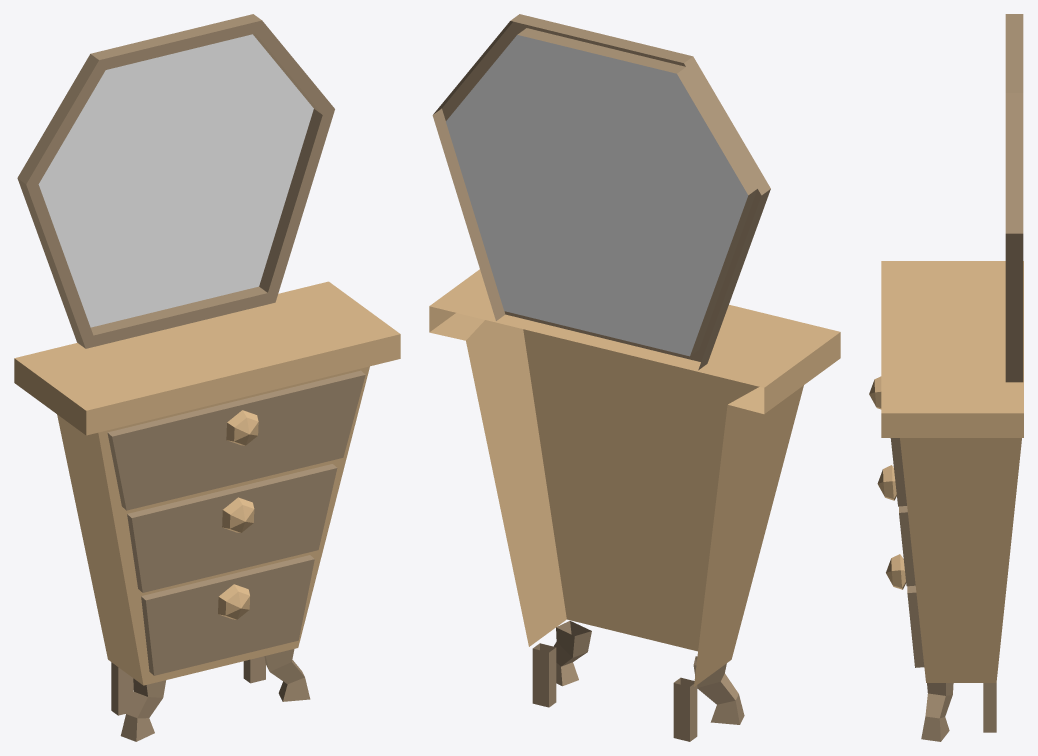
The model's file is Dresser.fbx.
3 renders of one model, left to right at view 1: azimuth 30°, elevation 25°; view 2: azimuth 150°, elevation 25°; view 3: azimuth 270°, elevation 25°, orthographic. The views are drawn at different scales.
Parts seen in each view (by area): view 1: DresserMesh; view 2: DresserMesh; view 3: DresserMesh.
Boxes of the visible parts, bbox=[...] form: DresserMesh: bbox=[14, 14, 400, 741]; DresserMesh: bbox=[429, 14, 840, 741]; DresserMesh: bbox=[869, 14, 1023, 741].
Size of the model in its own units: 9.27 by 18.28 by 3.99.
